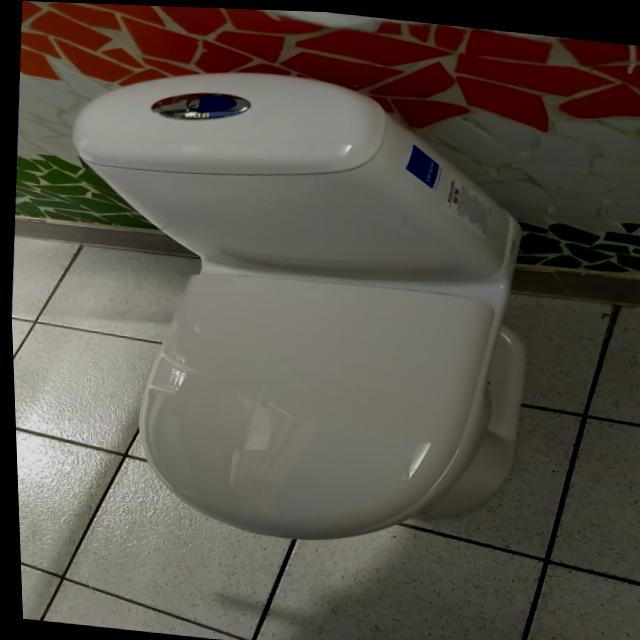toilet: (40, 50, 547, 560)
